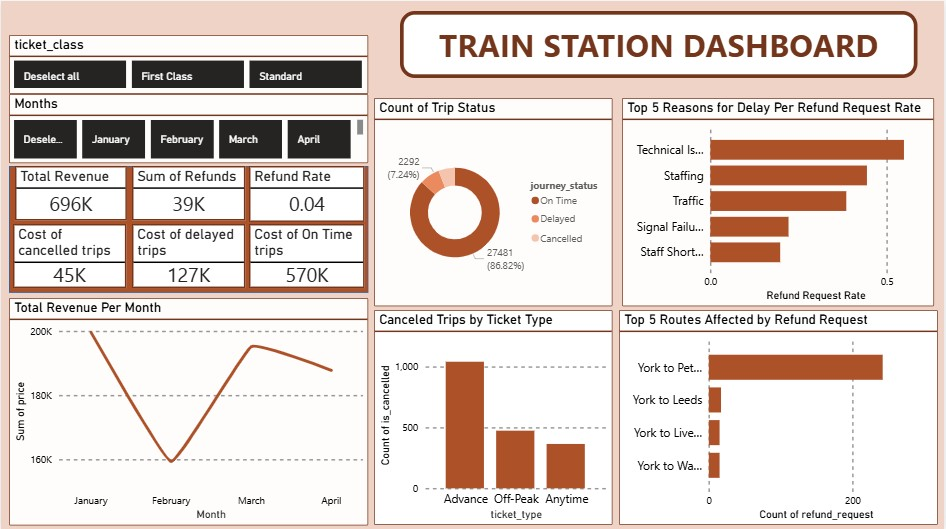

What the dashboard file says about the page in this screenshot:
{"tool":"powerbi","page":{"name":"Page 1","canvas":[1280,720],"ordinal":0},"visuals":[{"type":"shape","box":[7.3,89.6,526,161.6],"z":0},{"type":"textbox","box":[546.7,18.3,726.7,91.7],"z":1000},{"type":"lineChart","title":"Total Revenue Per Month","fields":{"Category":["railway_processed_dataset.date_of_journey.Variation.Date Hierarchy.Month"],"Y":["Sum(railway_processed_dataset.price)"]},"box":[7.3,489.3,533.4,221.9],"z":2000},{"type":"card","title":"Cost of Cancelled trips","fields":{"Values":["Sum(railway_processed_dataset.price)"]},"box":[14.7,164.6,161.6,86.7],"z":3000},{"type":"card","title":"Cost of Delayed Trips","fields":{"Values":["Sum(railway_processed_dataset.price)"]},"box":[180.7,164.6,166,85.2],"z":4000},{"type":"clusteredColumnChart","title":"Count of Trip Status","fields":{"Category":["railway_processed_dataset.journey_status"],"Y":["CountNonNull(railway_processed_dataset.journey_status)"]},"box":[583.3,191.7,231.7,191.7],"z":5000},{"type":"card","title":"Total Revenue","fields":{"Values":["Sum(railway_processed_dataset.price)"]},"box":[14.7,101.4,161.6,63.2],"z":6000},{"type":"card","title":"Sum of Refunds","fields":{"Values":["Sum(railway_processed_dataset.price)"]},"box":[180.7,101.4,166,63.2],"z":7000},{"type":"card","title":"Refund Request (%)","fields":{"Values":["railway_processed_dataset.refund percentage"]},"box":[349.7,101.4,176.3,63.2],"z":8000},{"type":"clusteredBarChart","title":"Top Reasons for Delayed Trips","fields":{"Category":["railway_processed_dataset.Cleaned Reason"],"Y":["CountNonNull(railway_processed_dataset.is_delayed)"]},"box":[905.1,132.2,365.9,282.1],"z":9000},{"type":"clusteredBarChart","title":"Top Routes Affected by Refund Request","fields":{"Category":["railway_processed_dataset.route"],"Y":["CountNonNull(railway_processed_dataset.refund_request)"]},"box":[903.7,420.2,368.8,290.9],"z":10000},{"type":"clusteredColumnChart","title":"Distribution of Cancelled Trips by Booking Period","fields":{"Y":["CountNonNull(railway_processed_dataset.is_cancelled)"],"Category":["railway_processed_dataset.ticket_type"]},"box":[546.6,420.2,351.2,292.4],"z":11000},{"type":"advancedSlicerVisual","title":"Ticket Class","fields":{"Values":["railway_processed_dataset.ticket_class"]},"box":[6.7,8.3,526.7,80],"z":12000},{"type":"card","title":"Average Delay Minutes","fields":{"Values":["Avg(railway_processed_dataset.delay_minutes)"]},"box":[349.7,164.6,176.3,83.8],"z":13000},{"type":"donutChart","title":"Distribution of Ticket Class","fields":{"Category":["railway_processed_dataset.ticket_class"],"Y":["CountNonNull(railway_processed_dataset.ticket_class)"]},"box":[296.8,261.6,243.9,221.9],"z":14000},{"type":"clusteredBarChart","title":"Top Reasons for Cancelled Trips","fields":{"Category":["railway_processed_dataset.Cleaned Reason"],"Y":["railway_processed_dataset.Cancelled Trips"]},"box":[546.6,132.2,351.2,282.1],"z":15000},{"type":"clusteredColumnChart","title":"Distribution of Journey Status","fields":{"Category":["railway_processed_dataset.journey_status"],"Y":["CountNonNull(railway_processed_dataset.journey_status)"]},"box":[7.3,261.6,283.6,221.9],"z":16000}]}

Visuals, with their boxes in screenshot pixels (x1, y1, x2, y2), scaled from the page's 1280x720 canvas onto the 946x529 screenshot:
shape: [5,66,394,185]
textbox: [404,13,941,81]
"Total Revenue Per Month" lineChart: [5,359,400,523]
"Cost of Cancelled trips" card: [11,121,130,185]
"Cost of Delayed Trips" card: [134,121,256,184]
"Count of Trip Status" clusteredColumnChart: [431,141,602,282]
"Total Revenue" card: [11,75,130,121]
"Sum of Refunds" card: [134,75,256,121]
"Refund Request (%)" card: [258,75,389,121]
"Top Reasons for Delayed Trips" clusteredBarChart: [669,97,939,304]
"Top Routes Affected by Refund Request" clusteredBarChart: [668,309,940,522]
"Distribution of Cancelled Trips by Booking Period" clusteredColumnChart: [404,309,664,524]
"Ticket Class" advancedSlicerVisual: [5,6,394,65]
"Average Delay Minutes" card: [258,121,389,183]
"Distribution of Ticket Class" donutChart: [219,192,400,355]
"Top Reasons for Cancelled Trips" clusteredBarChart: [404,97,664,304]
"Distribution of Journey Status" clusteredColumnChart: [5,192,215,355]
